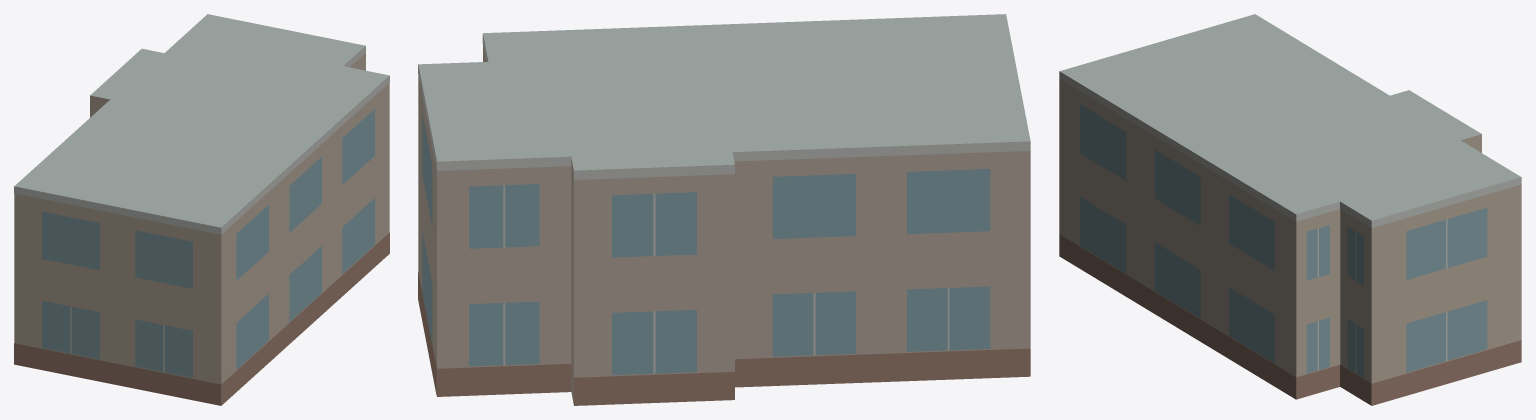
The model's file is survey-upis-32907867.glb.
The picture shows the model from 3 angles, left to right: view 1: azimuth 30°, elevation 25°; view 2: azimuth 150°, elevation 25°; view 3: azimuth 270°, elevation 25°; orthographic projection. The views are drawn at different scales.
Visible parts, largest first — view 1: survey-upis-32907867.tmp; view 2: survey-upis-32907867.tmp; view 3: survey-upis-32907867.tmp.
Part boxes in pixels (bbox=[...]): survey-upis-32907867.tmp: bbox=[14, 14, 389, 405]; survey-upis-32907867.tmp: bbox=[418, 14, 1030, 405]; survey-upis-32907867.tmp: bbox=[1059, 14, 1521, 405].
Bounding box in the file's own units: 14.62 × 6.1 × 13.81.
